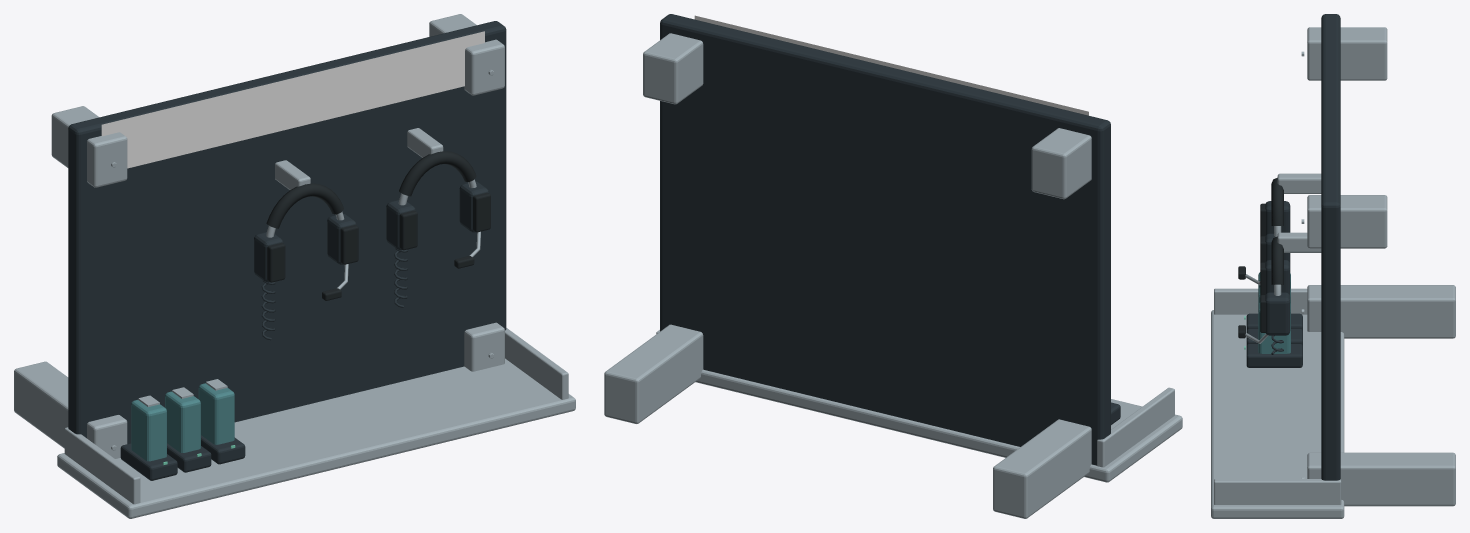
File: SF_SR_ShiftEquipment.fbx
3 renders of one model, left to right at view 1: azimuth 30°, elevation 25°; view 2: azimuth 150°, elevation 25°; view 3: azimuth 270°, elevation 25°, orthographic. The views are drawn at different scales.
Visible parts, largest first — view 1: SF_SR_ShiftEquipment; view 2: SF_SR_ShiftEquipment; view 3: SF_SR_ShiftEquipment.
Boxes of the visible parts, <box> form: SF_SR_ShiftEquipment: <box>14,14,575,518</box>; SF_SR_ShiftEquipment: <box>604,14,1182,518</box>; SF_SR_ShiftEquipment: <box>1211,14,1455,518</box>.
Bounding box in the file's own units: 159 × 117 × 82.7.
